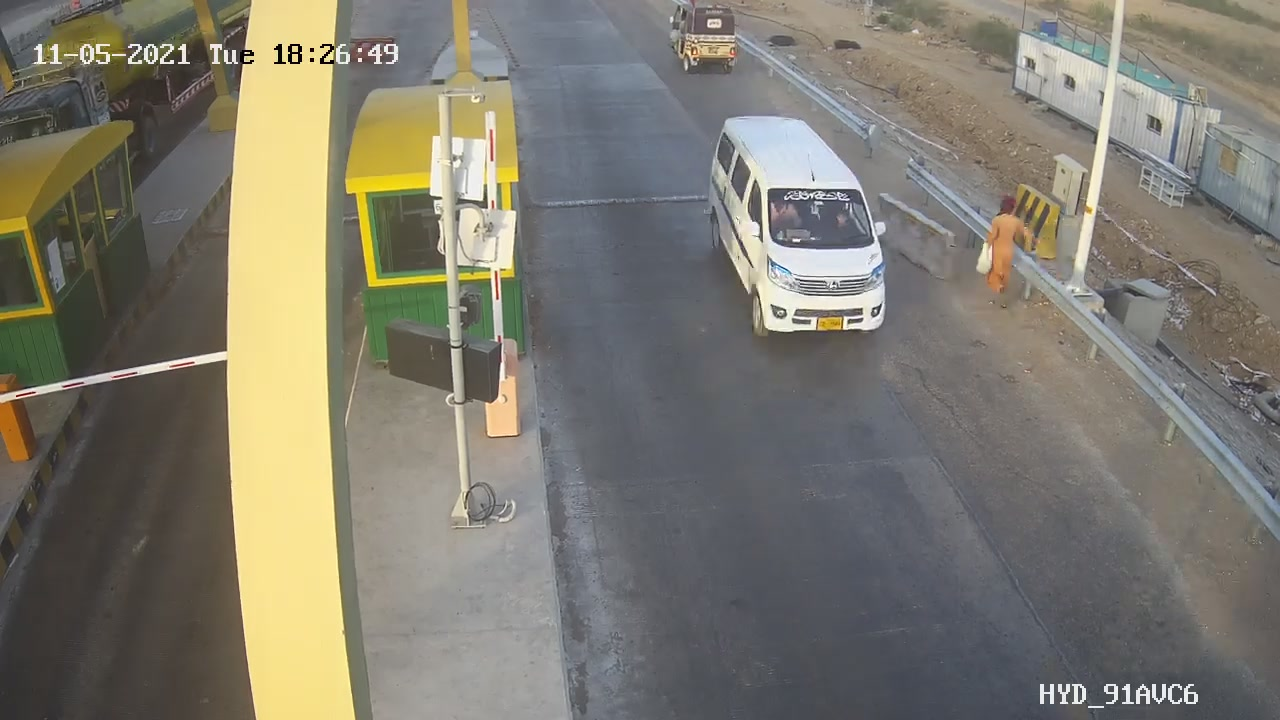F1: (701, 96, 898, 347)
